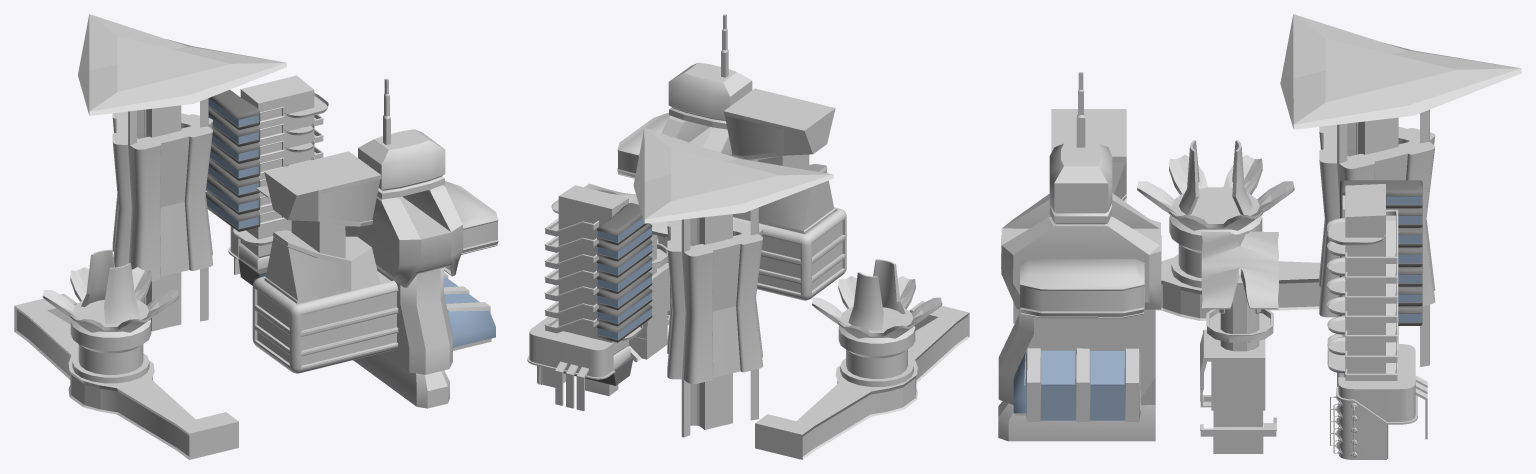
Rendered from KF_SM_PreBuildKit.fbx.
3 views of the same model, side by side, from view 1: azimuth 30°, elevation 25°; view 2: azimuth 150°, elevation 25°; view 3: azimuth 270°, elevation 25° (orthographic). The views are drawn at different scales.
Parts seen in each view (by area): view 1: Box084, Box022, Box009, Box088, Box021, Box024, Cylinder001, Box023, Box073, Box020, Box032, Box014 (+2 smaller); view 2: Box084, Box088, Box022, Box024, Cylinder001, Box073, Box021, Box023, Box020, Box008, Balcon.Corner_low, Box034 (+6 smaller); view 3: Box088, Box009, Box023, Box084, Cylinder001, Box032, Box020, Box008, Box037, Balcon.Corner_low, Box073, Box034 (+10 smaller).
Boxes of the visible parts, x1,y1,x2,y2 form: Box084: (112,98,212,331); Box022: (264,151,381,303); Box009: (345,196,463,408); Box088: (78,14,286,115); Box021: (252,271,398,373); Box024: (14,293,238,459); Cylinder001: (42,249,179,383); Box023: (358,78,462,239); Box073: (205,90,260,231); Box020: (239,75,314,269); Box032: (443,181,498,254); Box014: (447,310,495,347); Box084: (667,207,762,437); Box088: (633,128,833,223); Box022: (723,88,835,233); Box024: (755,301,969,459); Cylinder001: (812,259,942,386); Box073: (597,203,652,342); Box021: (733,207,846,300); Box023: (661,14,752,155); Box020: (558,185,630,369); Box008: (527,316,615,387); Balcon.Corner_low: (544,218,599,333); Box034: (635,265,669,339); Box088: (1280,14,1521,129); Box009: (998,219,1161,441); Box023: (1002,72,1159,254); Box084: (1319,109,1435,386); Cylinder001: (1137,140,1294,287); Box032: (1020,259,1144,318); Box020: (1344,184,1385,377); Box008: (1336,344,1417,459); Box037: (1201,231,1278,313); Balcon.Corner_low: (1345,209,1398,380); Box073: (1340,180,1422,325); Box034: (1211,337,1265,426).
Size of the model in its own units: 213 by 171 by 230.
